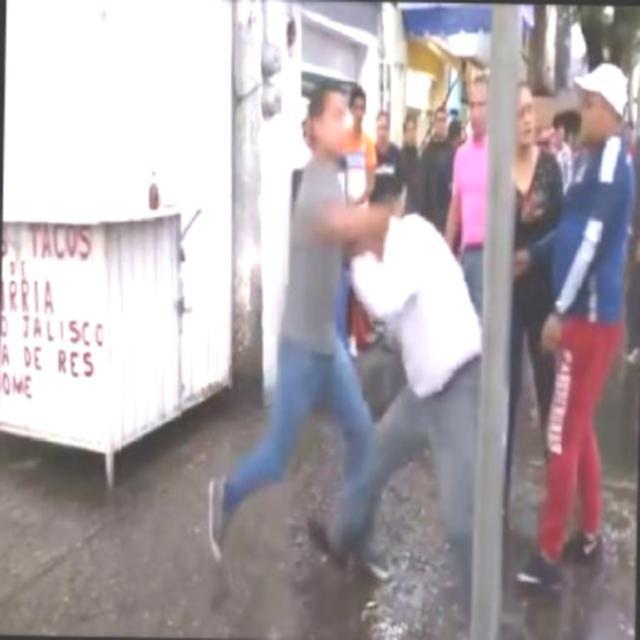fight: (236, 86, 479, 574)
non-fight: (536, 56, 635, 579)
